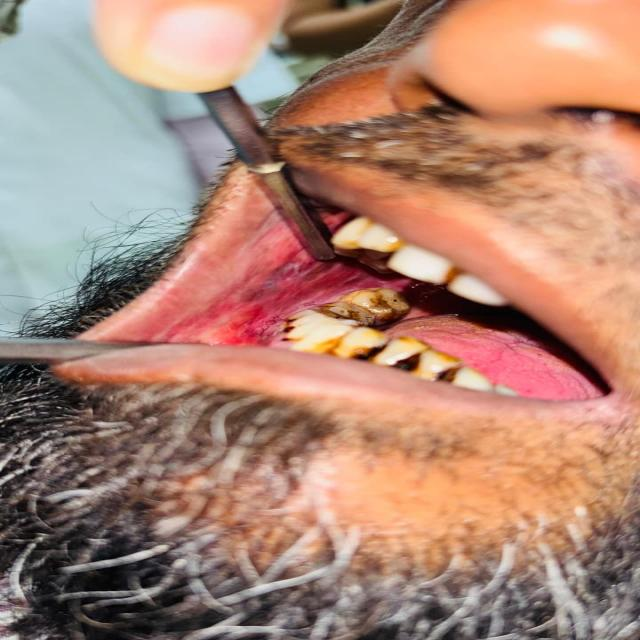leukoplakia-like-detection: (126, 232, 373, 343)
processing_area: (135, 195, 386, 337)
